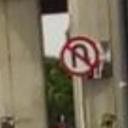NoVirarU: (59, 34, 102, 76)
